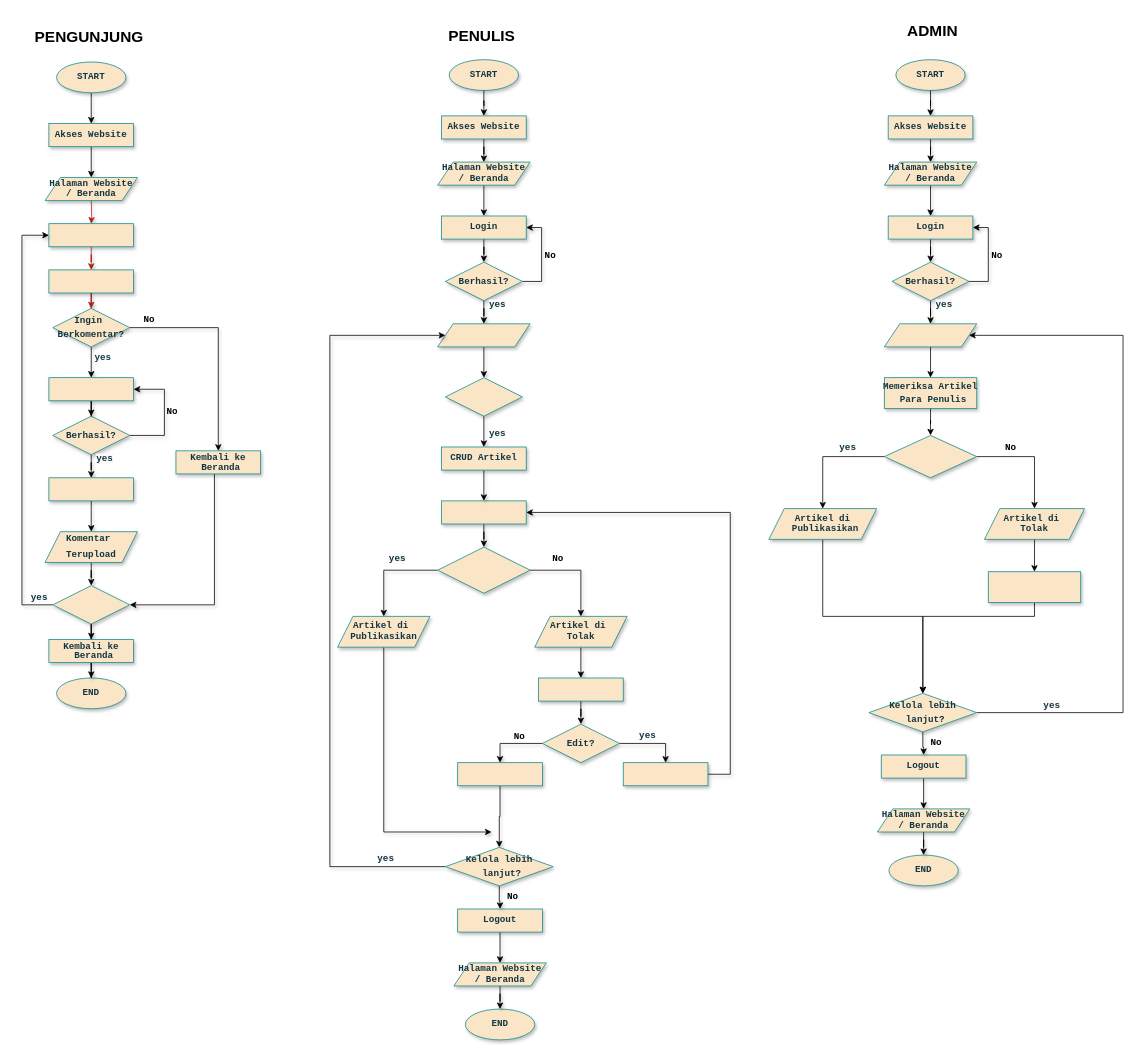
The diagram is 1143 pixels wide and 1059 high, and some of its shapes have lost their labels. The centre of each missing label's shape, as x and y in pixels:
Admin Menyetujui?: point 484,571
Ajukan Artikel Untuk Persetujuan: point 484,513
Approve Artikel?: point 930,457
Baca Artikel Lain?: point 91,605
Berikan Feedback kepada penulis: point 1034,588
Berkomentar: point 91,490
Buat/Edit/Hapus Artikel?: point 484,398
Edit Artikel: point 666,775
Halaman Dashboard Admin: point 930,336
Halaman Dashboard Penulis: point 484,336
Hapus Artikel: point 500,775
Login/Daftar: point 91,390
Membaca Artikel: point 91,282
Memilih artikel untuk dibaca: point 91,236
Pilih Tindakan: point 581,690
